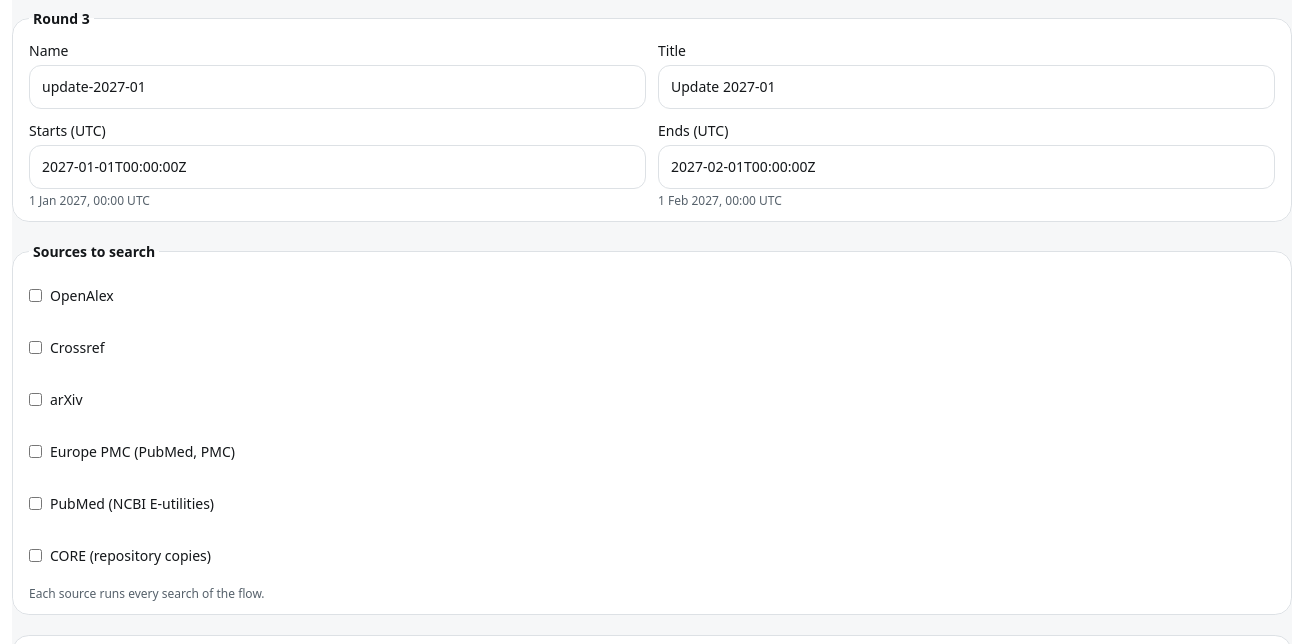
Test: New series › times that are not UTC ISO are flagged: date only, no zone, another offset
(page scrolled)
Click the checkbox labelled "OpenAlex" at (36, 296), box top-left (29, 289), bottom-right (42, 302)
(page scrolled)
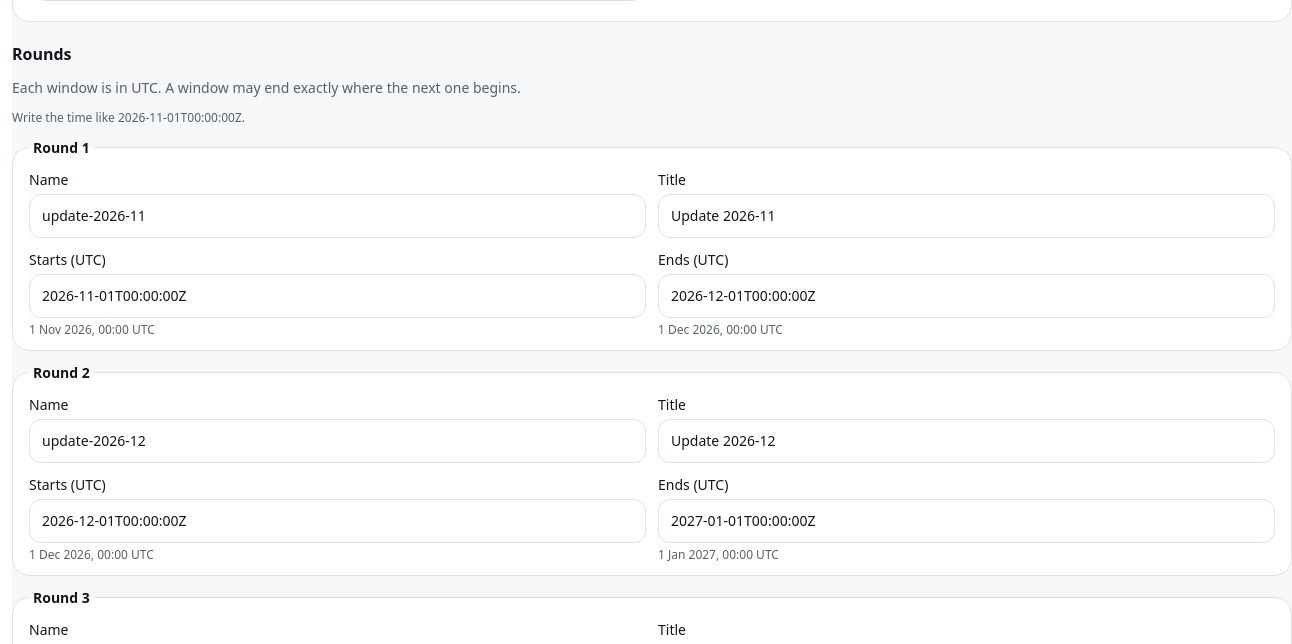
Replace the text in the field labelled "Starts (UTC)" below "Round 1" with "2026-11-01" at (338, 296), box top-left (29, 274), bottom-right (646, 318)
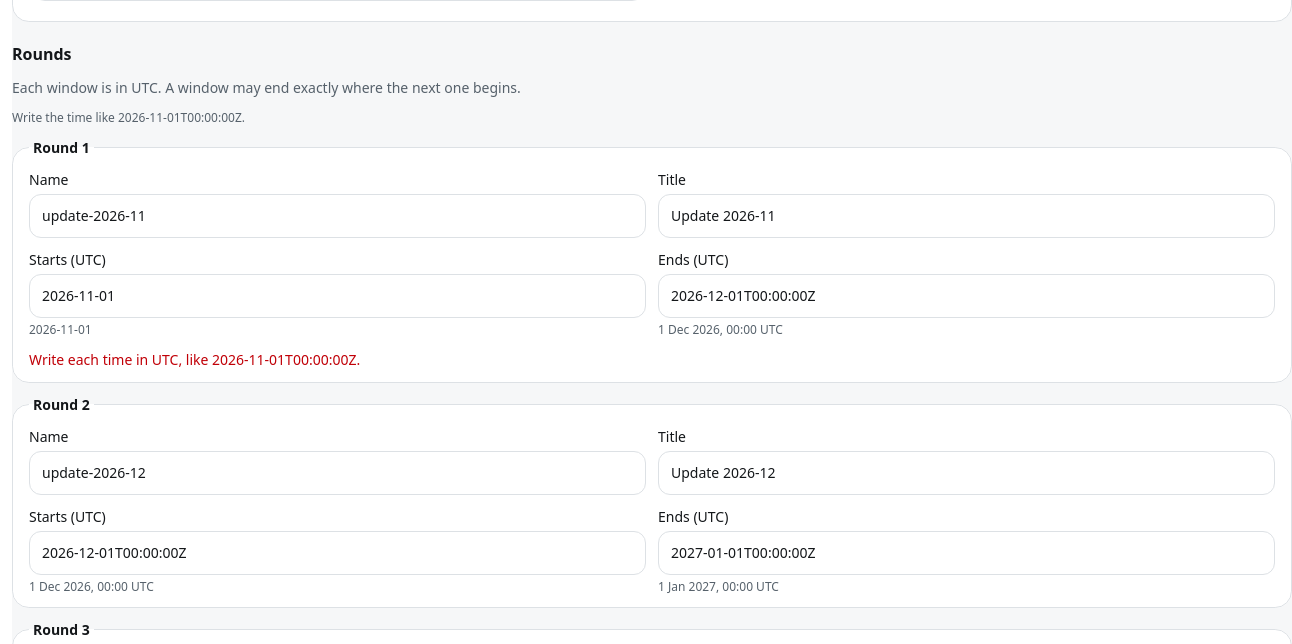
Check: the text "Write each time in UTC, like 2026-11-01T00:00:00Z." is shown, box top-left (29, 350), bottom-right (360, 368)
Replace the text in the 1st field labelled "Starts (UTC)" with "2026-11-01T00:00:00" at (338, 296), box top-left (29, 274), bottom-right (646, 318)
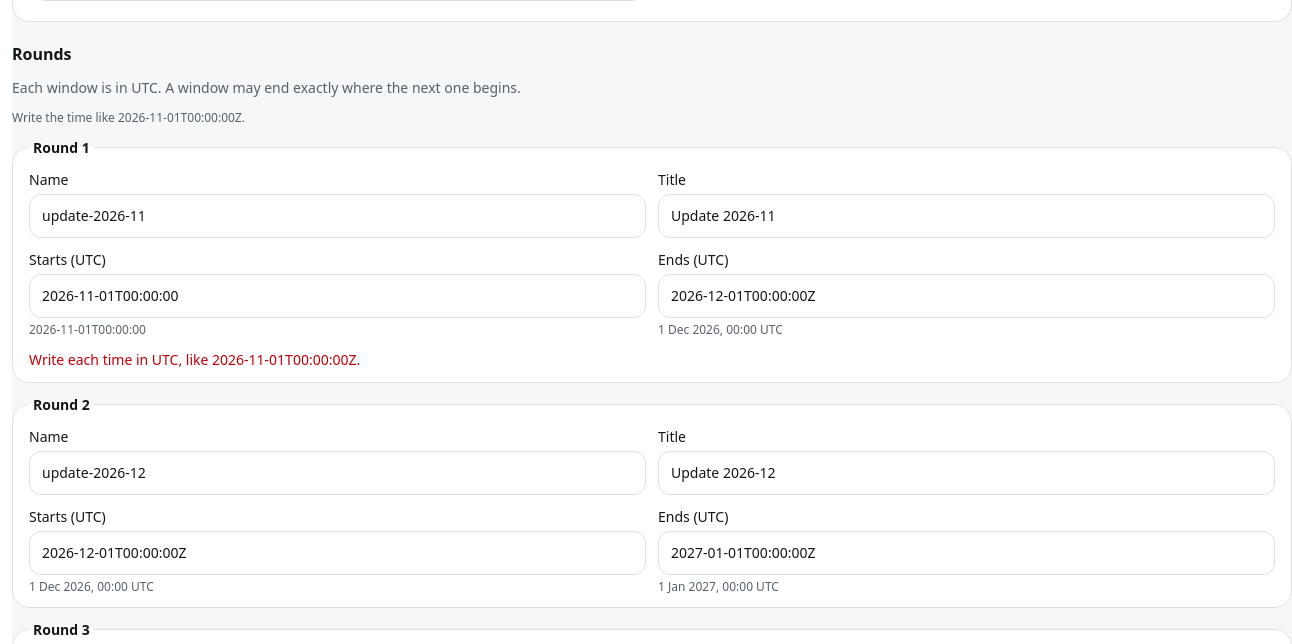
Check: the text "Write each time in UTC, like 2026-11-01T00:00:00Z." is shown, box top-left (29, 350), bottom-right (360, 368)
Replace the text in the 1st field labelled "Starts (UTC)" with "2026-11-01T00:00:00+01:00" at (338, 296), box top-left (29, 274), bottom-right (646, 318)
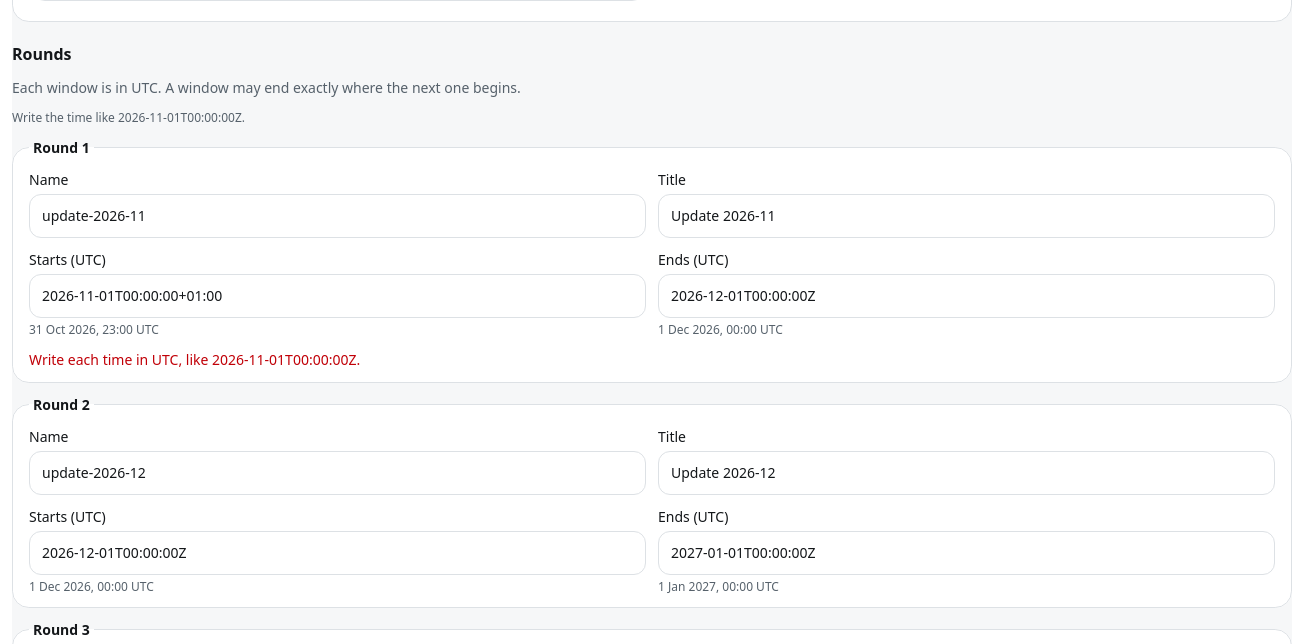
Check: the text "Write each time in UTC, like 2026-11-01T00:00:00Z." is shown, box top-left (29, 350), bottom-right (360, 368)
Replace the text in the 1st field labelled "Starts (UTC)" with "2026-11-01T00:00:00+00:00" at (338, 296), box top-left (29, 274), bottom-right (646, 318)
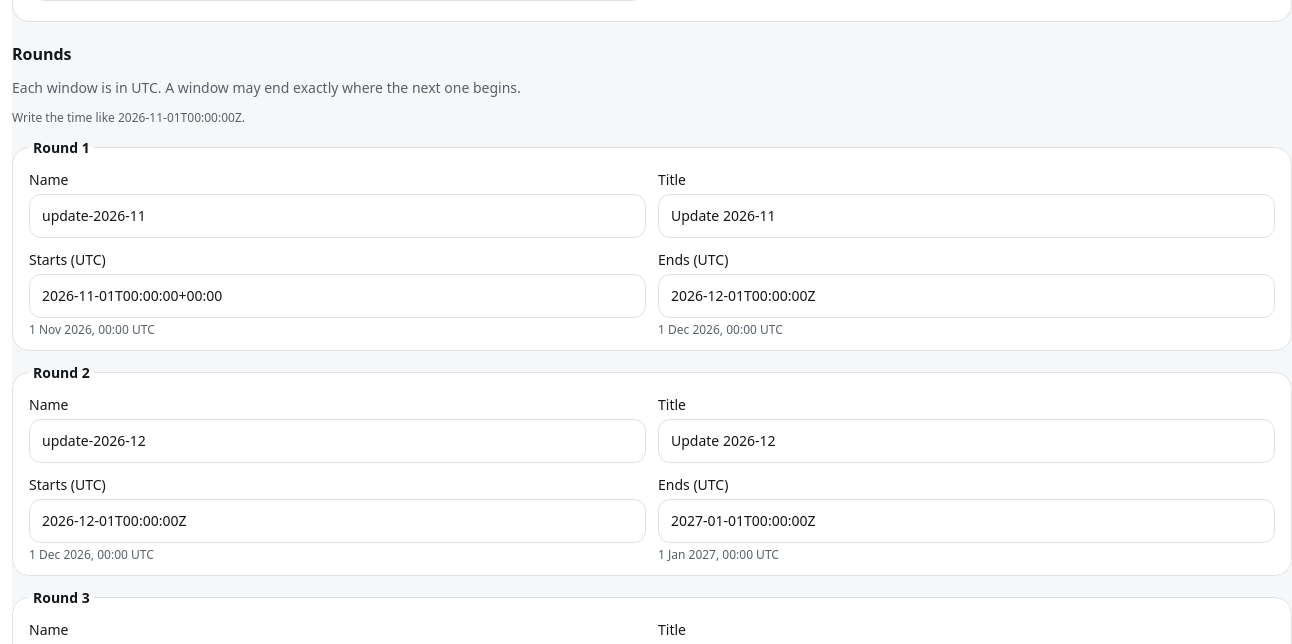
Check: the text "Write each time in UTC, like 2026-11-01T00:00:00Z." is gone
